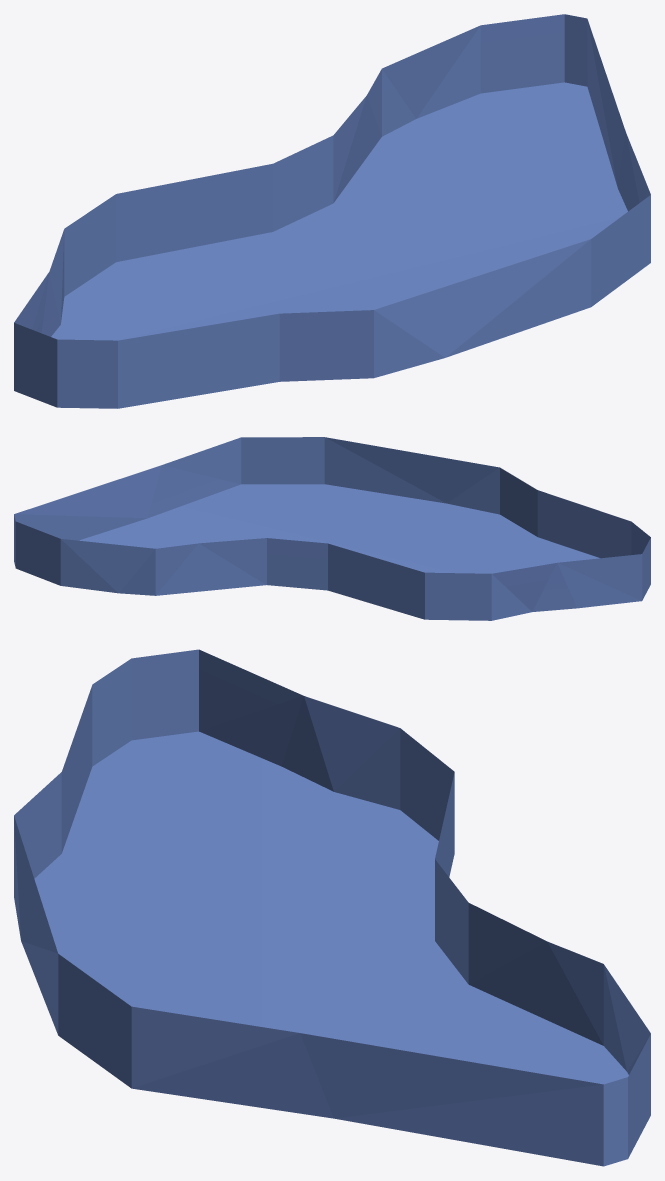
The model's file is sp_ground04.glb.
3 renders of one model, top to bottom at view 1: azimuth 30°, elevation 25°; view 2: azimuth 150°, elevation 25°; view 3: azimuth 270°, elevation 25°, orthographic. The views are drawn at different scales.
Visible parts, largest first — view 1: SP_Ground04; view 2: SP_Ground04; view 3: SP_Ground04.
Part boxes in pixels (x1=…): SP_Ground04: x1=14, y1=14, x2=650, y2=408; SP_Ground04: x1=14, y1=437, x2=650, y2=620; SP_Ground04: x1=14, y1=649, x2=650, y2=1166.
Size of the model in its own units: 262 by 23 by 162.
Materials: 1 (1 with a texture image).
